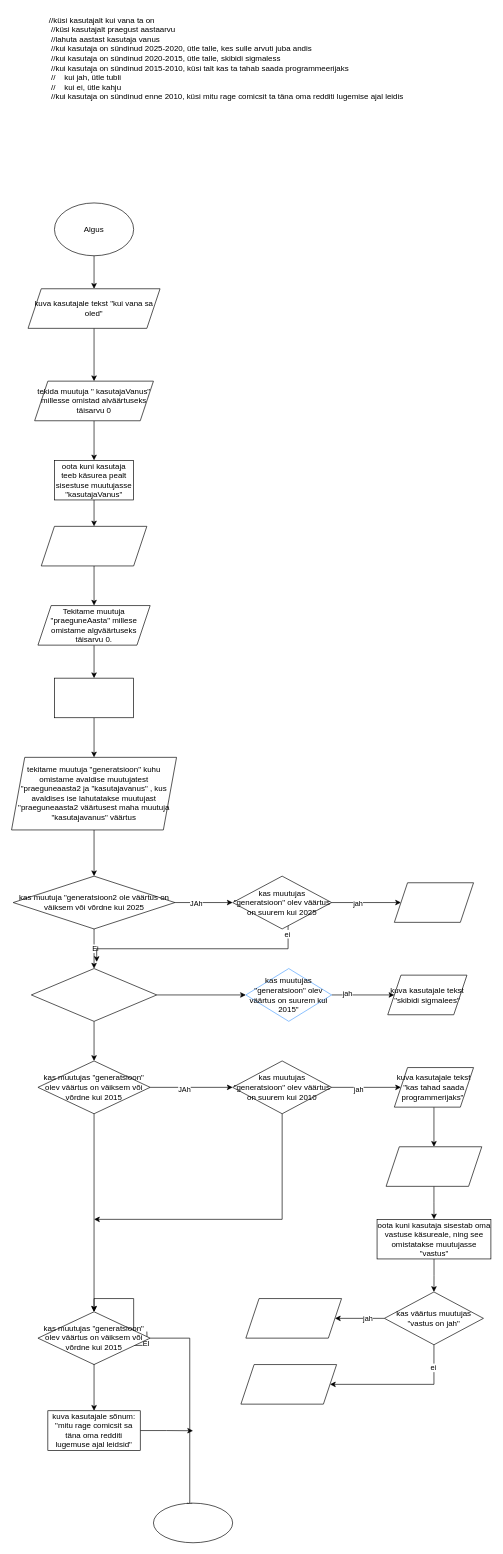
The diagram is 503 pixels wide and 1554 high, and some of its shapes have lost their labels. Each missing label, with the centre of its shape:
kas muutujas "generatsioon" olev väärtus on väiksem või võrdne kui 2020: [94,994]
kuva kasutaja sõnum: "jee tubli": [293,1318]
kuva kasutajale tekst "kes sulle arvuti juba andis": [434,902]
kuva kasutajale tekst: " mis aasta hetkel kalendris on: [94,546]
kyva kastujale sõnum: "kahjuu... :c": [288,1384]
Lõpp: [193,1522]
oota kuni käsurea pealt sisestuse muutujasse "praeguneaasta": [94,697]
tekita muutuja "vastus" millisse omistad algväärtusena tühja sõne "".: [433,1166]
